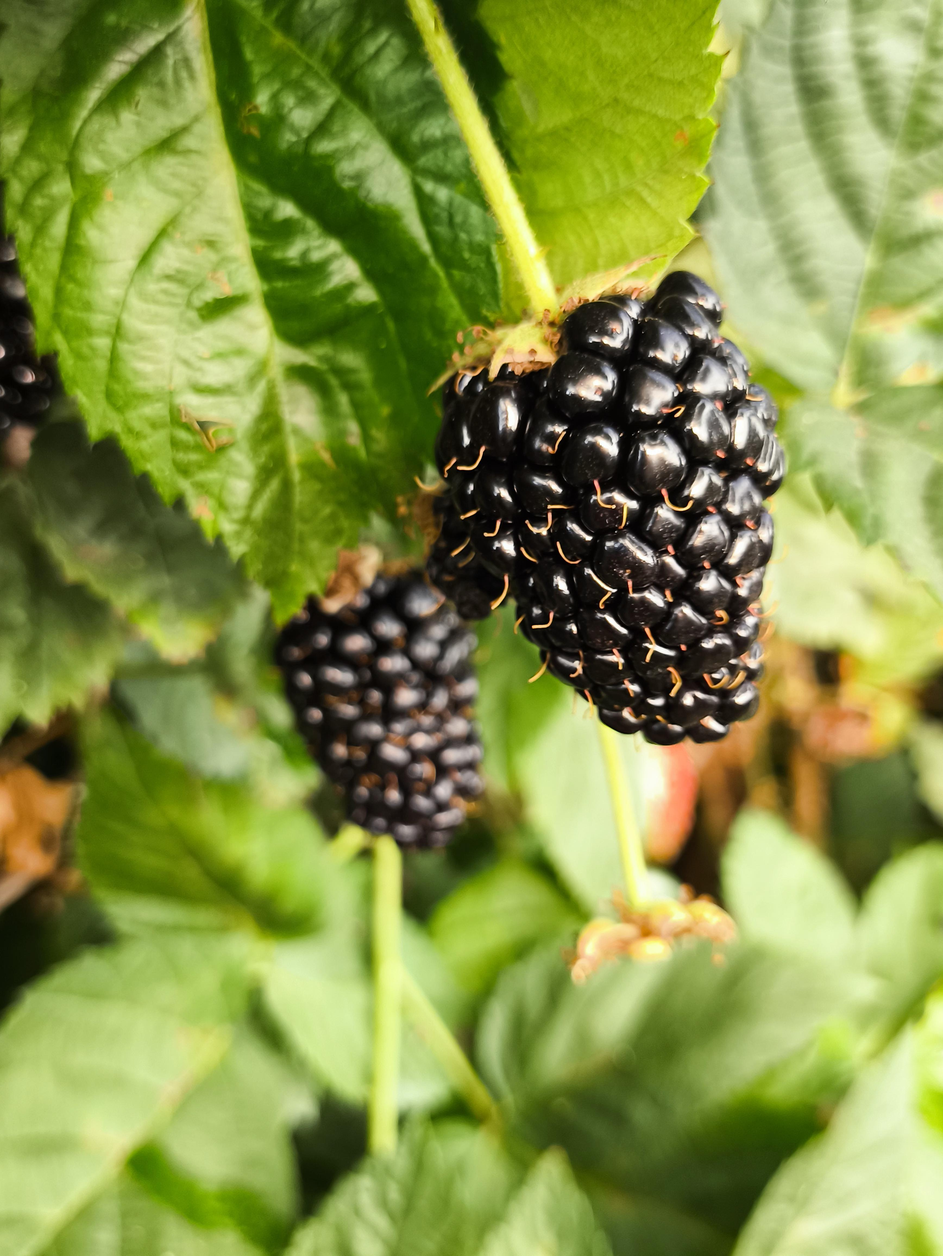maduro: (436, 269, 782, 752), (276, 569, 482, 849)
